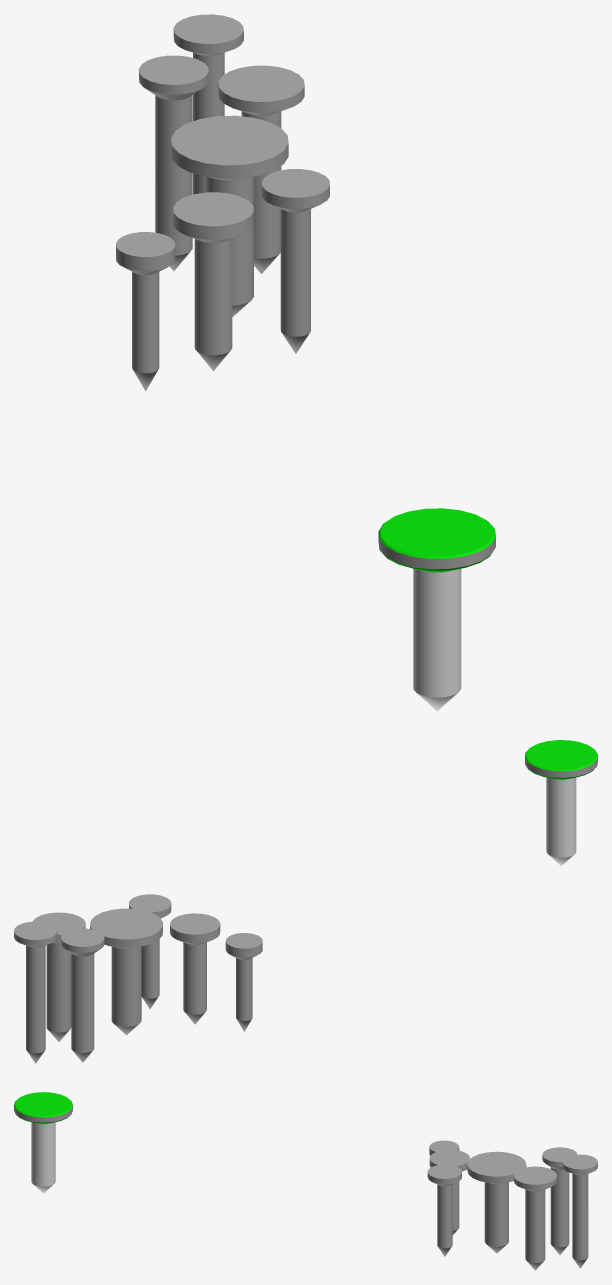
The model's file is floating paddles.fbx.
3 renders of one model, top to bottom at view 1: azimuth 30°, elevation 25°; view 2: azimuth 150°, elevation 25°; view 3: azimuth 270°, elevation 25°, orthographic. The views are drawn at different scales.
Visible parts, largest first — view 1: pCylinder4, pCylinder2, pCylinder7, pCylinder3, polySurface187, pCylinder5, pCylinder1, polySurface190, pCylinder6, polySurface189; view 2: pCylinder4, pCylinder7, pCylinder6, pCylinder2, pCylinder5, polySurface187, pCylinder1, polySurface190, pCylinder3, polySurface189; view 3: pCylinder4, pCylinder5, pCylinder6, pCylinder7, pCylinder3, polySurface187, polySurface190, pCylinder2, polySurface189, pCylinder1.
Part boxes in pixels (x1,y1,x2,y2): pCylinder4: (171,115,288,316); pCylinder2: (173,192,253,370); pCylinder7: (139,55,208,271); pCylinder3: (261,169,329,353); polySurface187: (413,568,461,711); pCylinder5: (218,65,304,273); pCylinder1: (116,232,175,391); polySurface190: (378,508,495,572); pCylinder6: (173,14,243,194); polySurface189: (378,532,495,569); pCylinder4: (90,908,162,1035); pCylinder7: (61,928,104,1062); pCylinder6: (14,921,57,1063); pCylinder2: (170,913,220,1024); pCylinder5: (32,912,85,1041); polySurface187: (546,777,576,865); pCylinder1: (225,933,262,1031); polySurface190: (525,740,597,779); pCylinder3: (129,894,171,1009); polySurface189: (525,756,597,777); pCylinder4: (467,1151,526,1253); pCylinder5: (513,1166,556,1270); pCylinder6: (562,1154,597,1268); pCylinder7: (542,1147,577,1254); pCylinder3: (427,1164,461,1256); polySurface187: (31,1122,55,1193); polySurface190: (14,1092,72,1124); pCylinder2: (429,1149,470,1235); polySurface189: (14,1105,72,1122); pCylinder1: (429,1140,459,1155).
Bounding box in the file's own units: 53.06 × 27.03 × 133.
